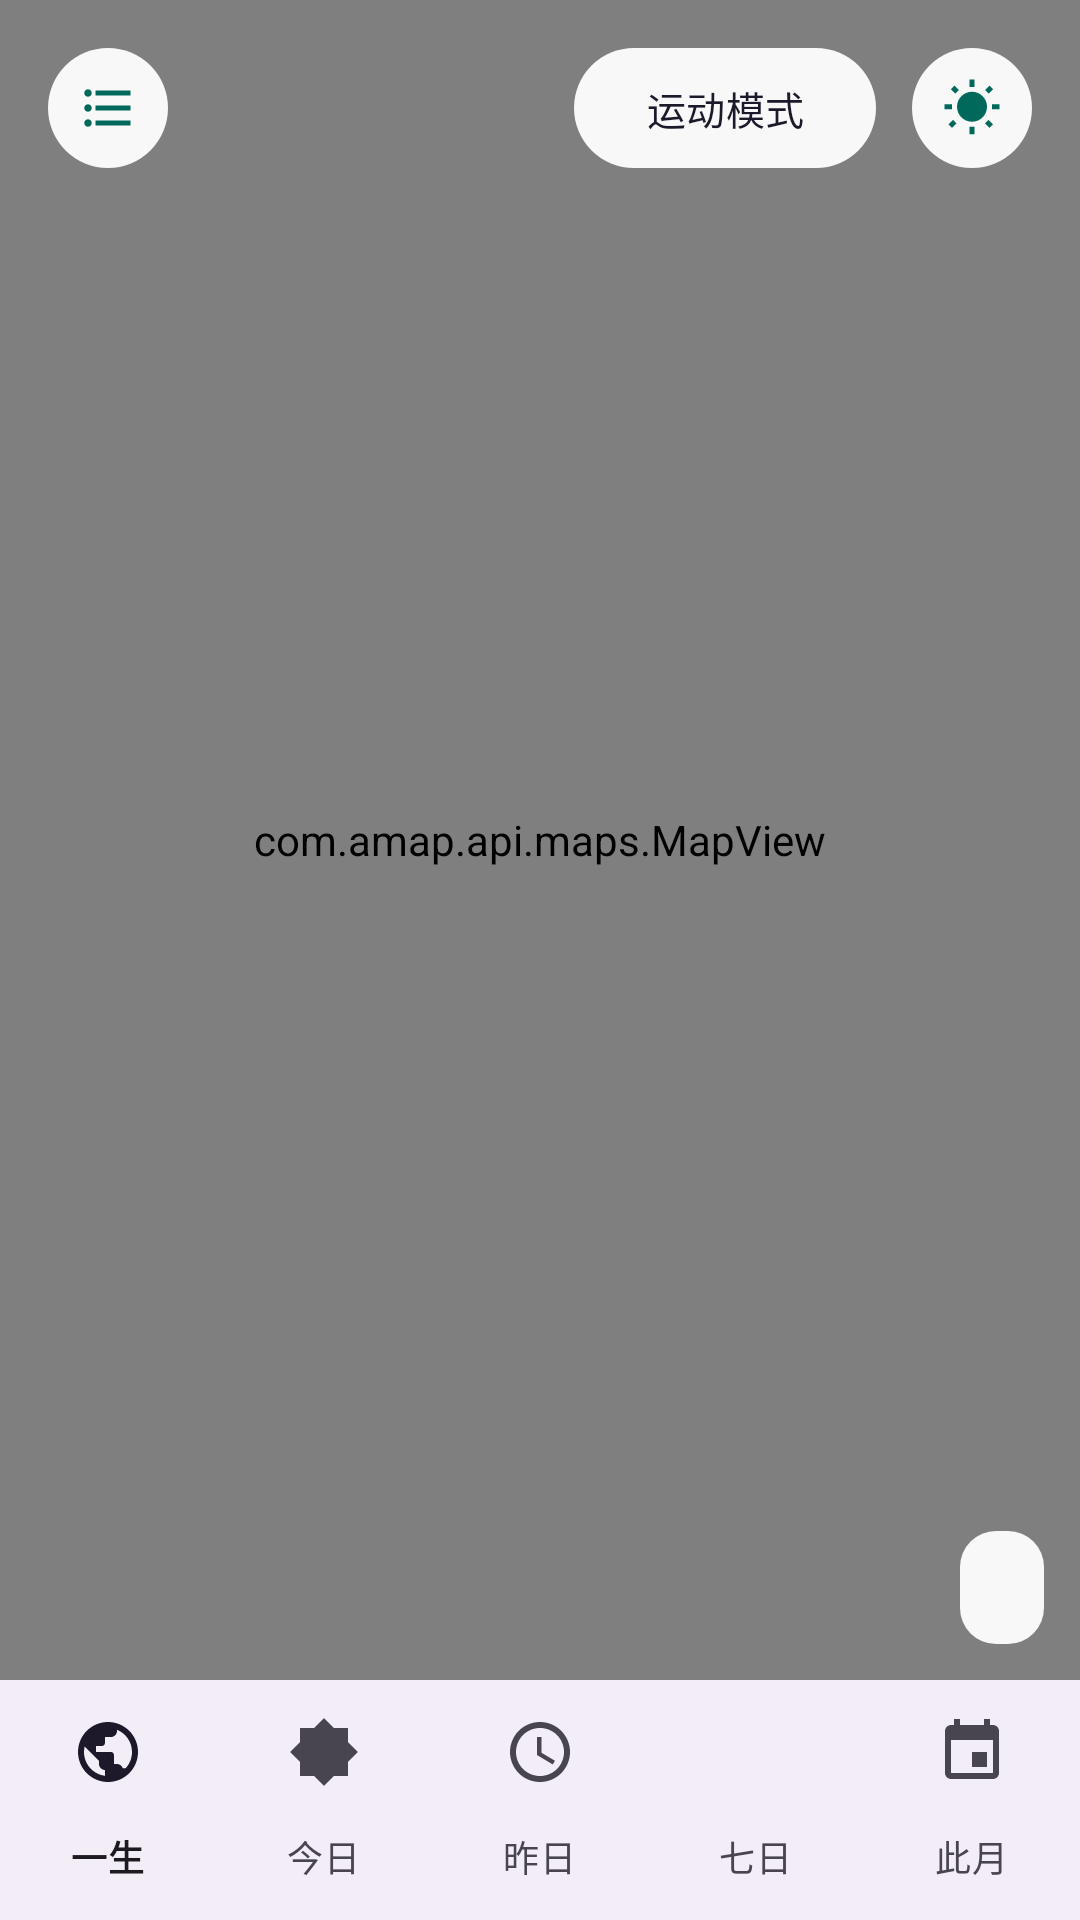

Named icons in this screenshot (1080w x 1920h) and their centers, (x,y):
切换暗黑主题: (972,108)
轨迹日志: (108,108)
